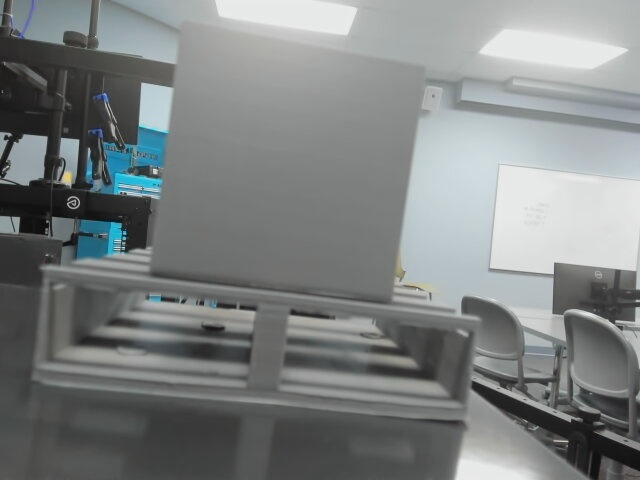grey pallet: (27, 10, 484, 433)
